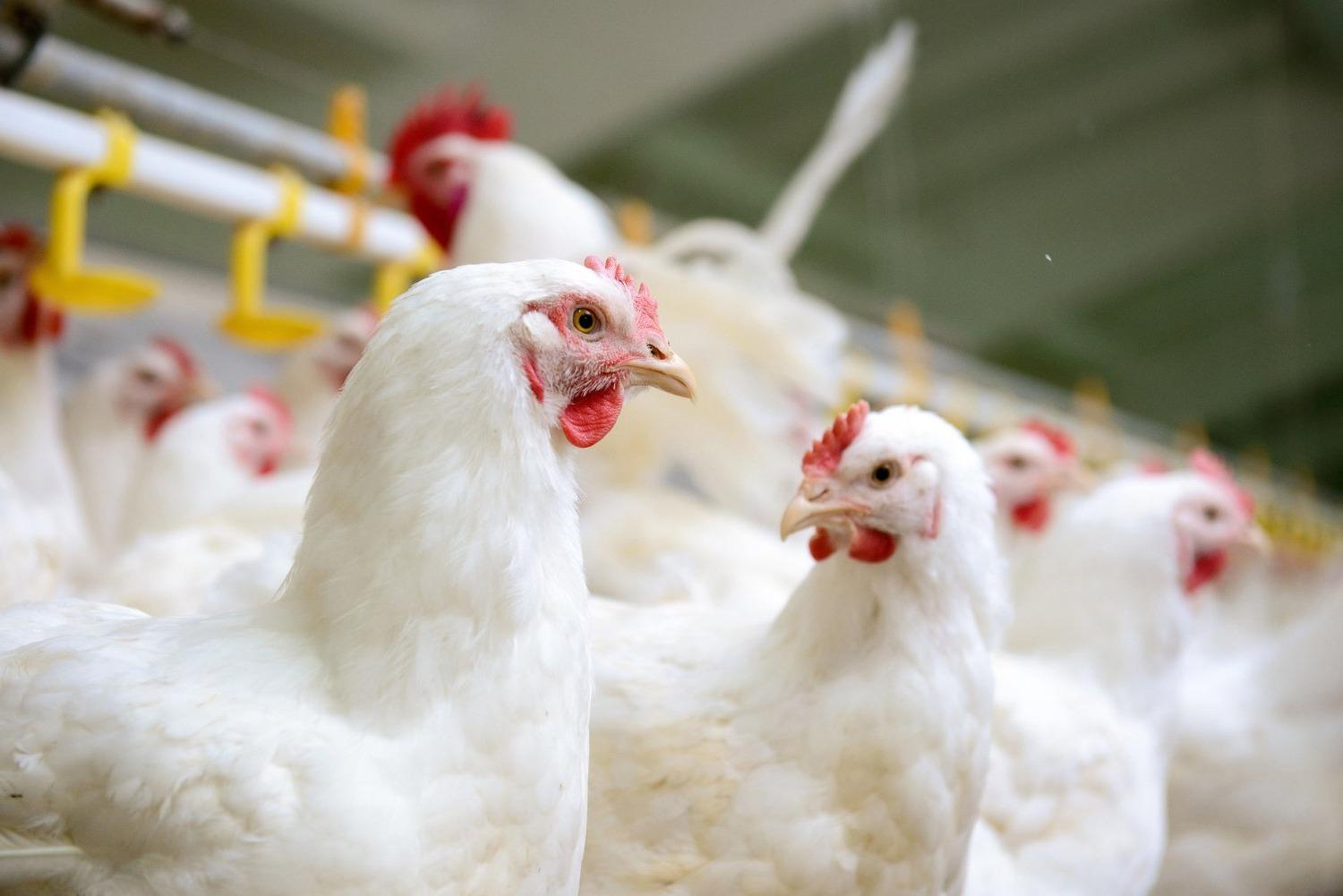AbNormal: (582, 247, 665, 335), (800, 396, 874, 490)
